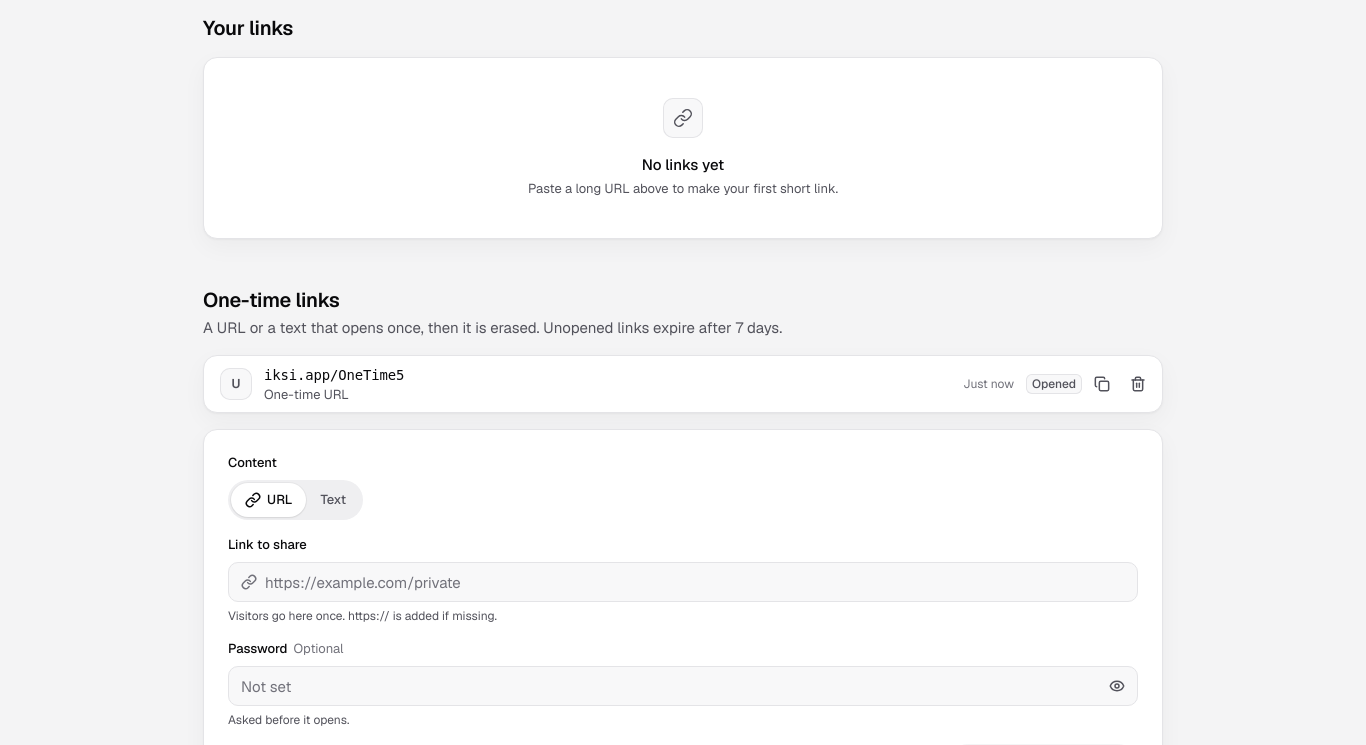
Test: links page groups and order › confirms a one-time delete inline
(page scrolled)
Click the button named "Delete iksi.app/OneTime5" at (1138, 384), box [1122,368,1154,400]
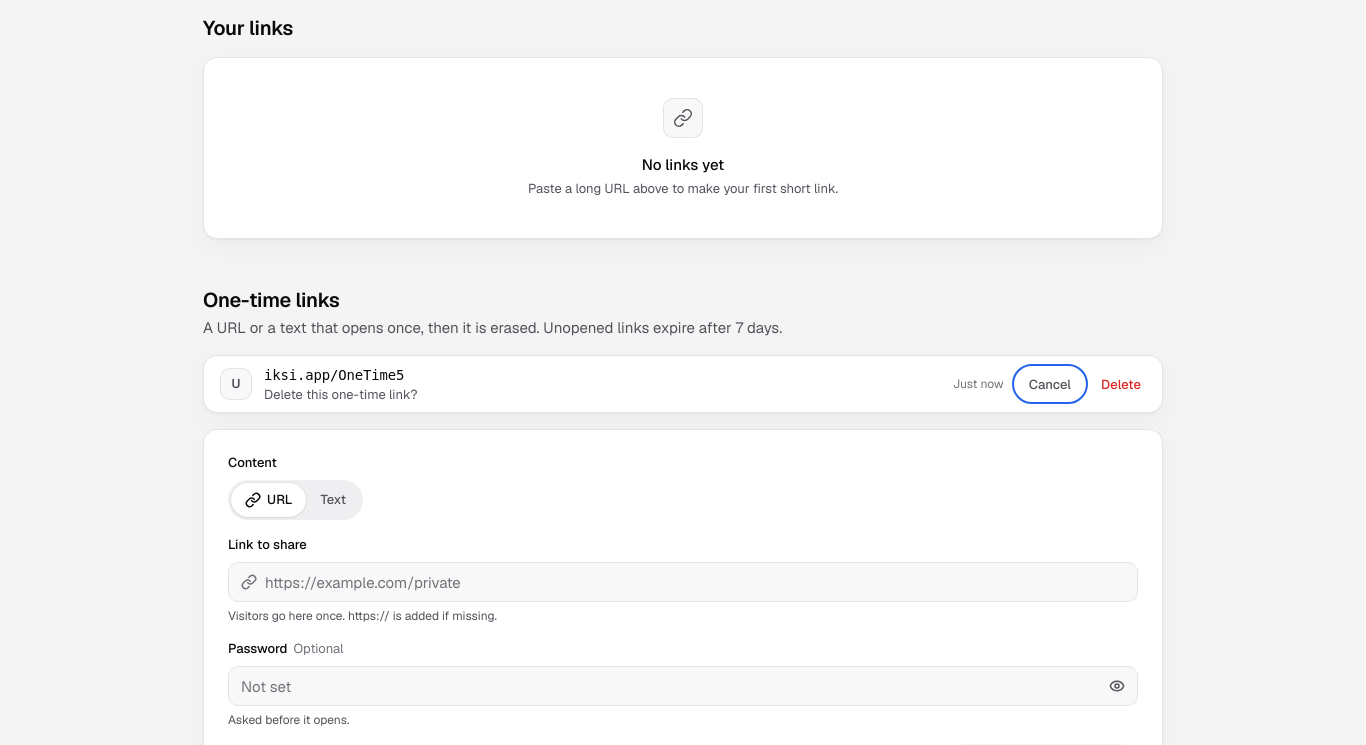
Click the button "Cancel" at (1050, 384), box [1016,368,1084,400]
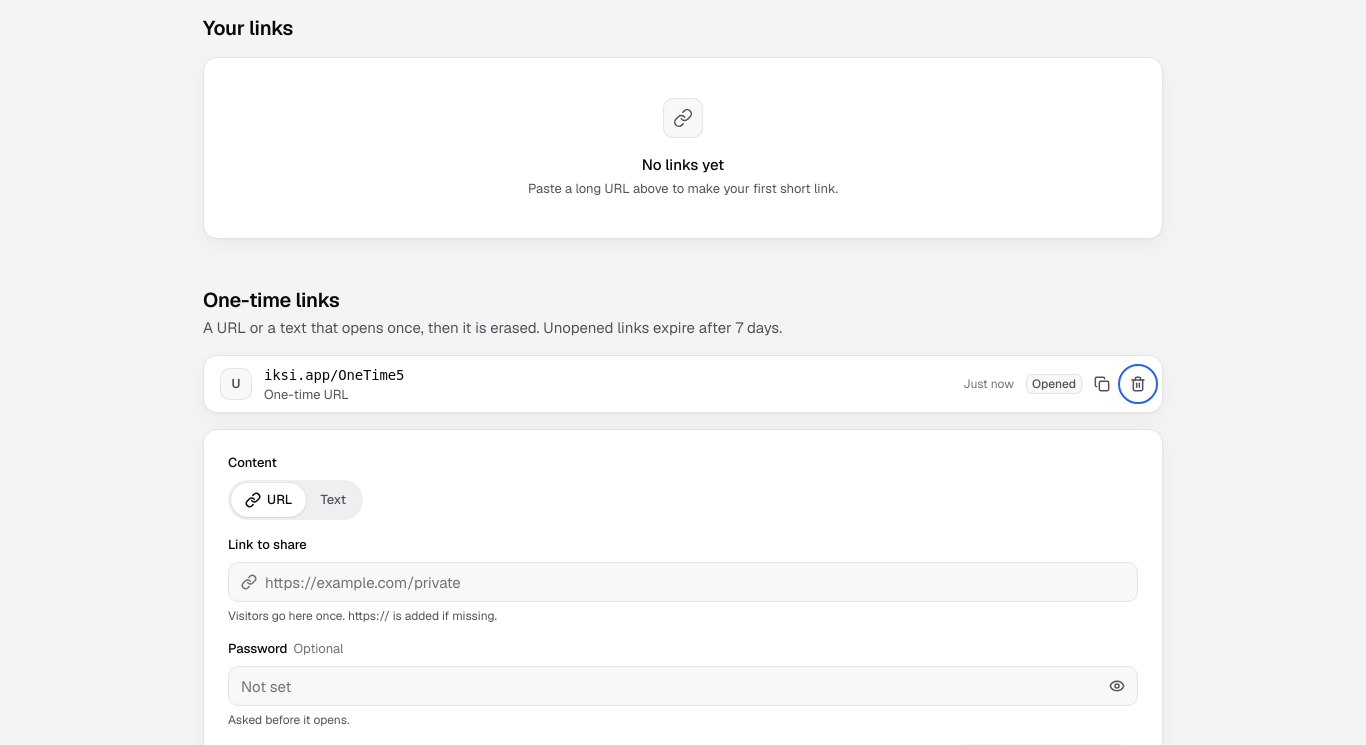
Click the button named "Delete iksi.app/OneTime5" at (1138, 384), box [1122,368,1154,400]
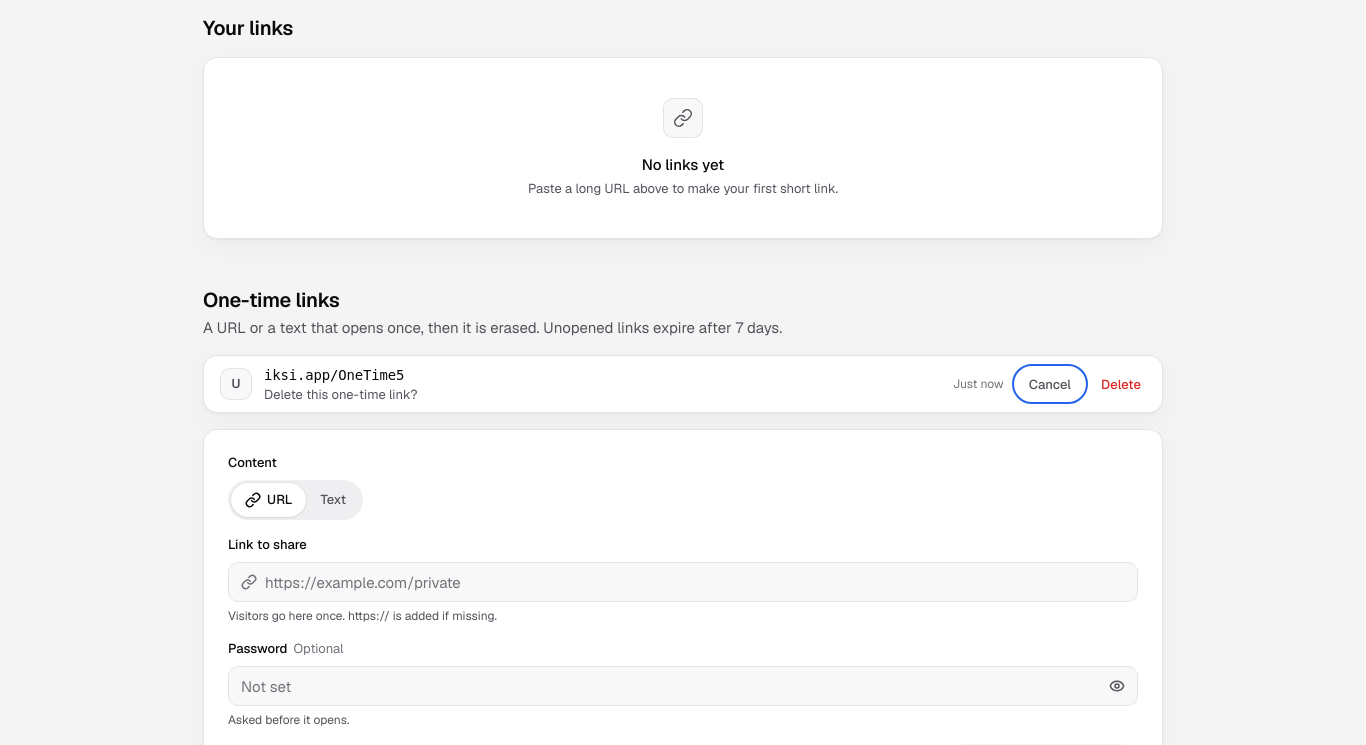
Click the button "Delete" at (1121, 384), box [1088,368,1154,400]
(page scrolled)
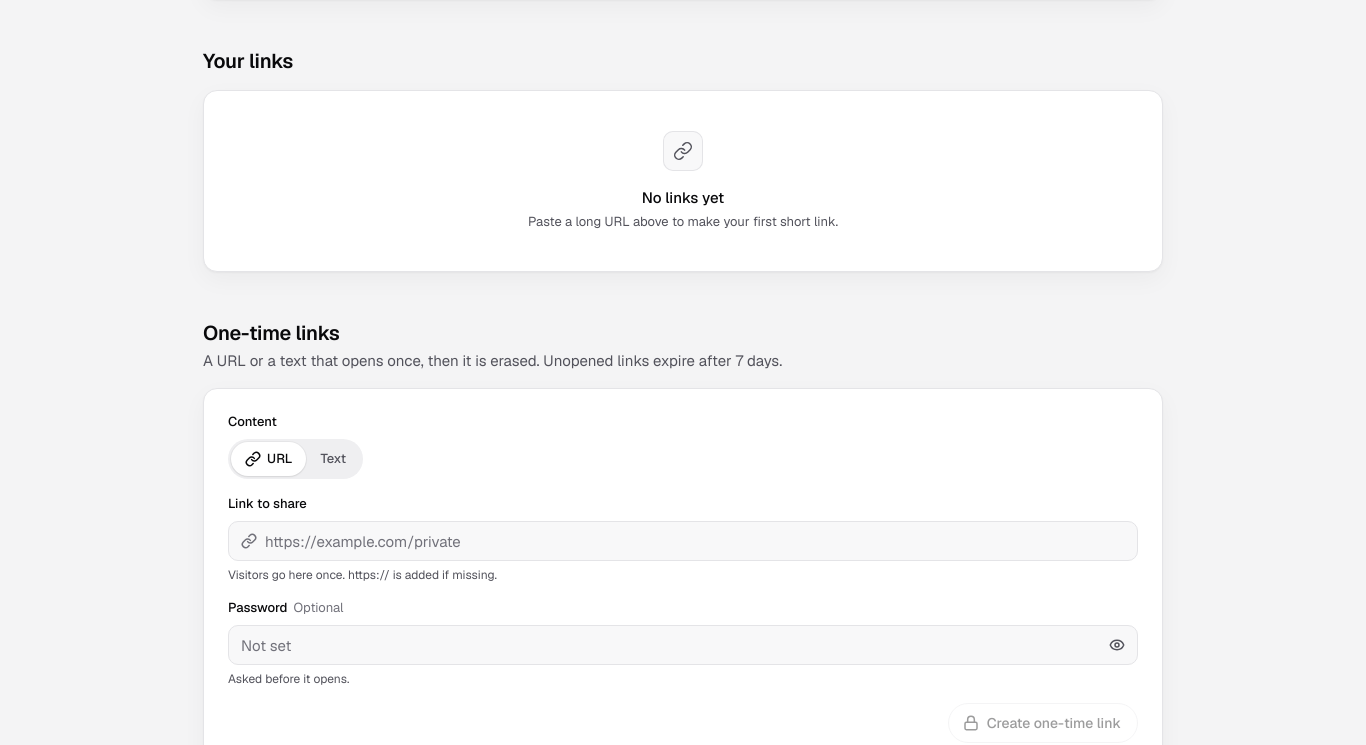
Check: the text "iksi.app/OneTime5" is gone
